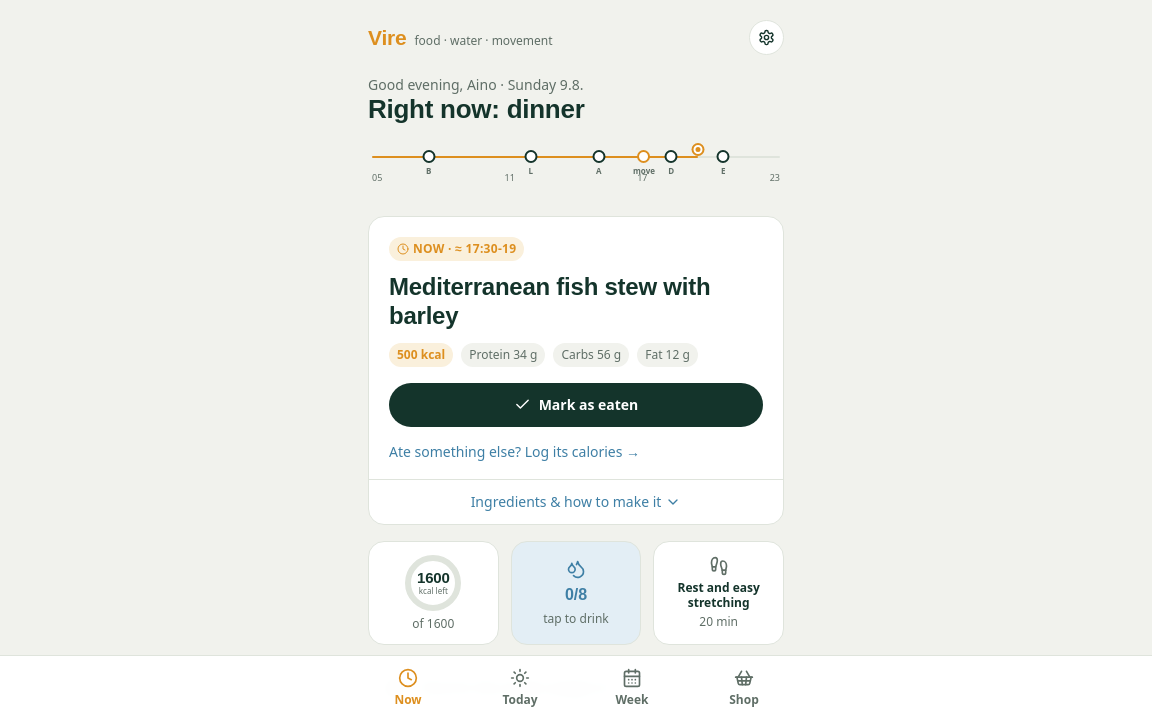
session gate › returns to the sign-in screen after signing out
The image size is (1152, 720).
Check: the button "Now" is shown, box [352, 656, 464, 719]
Note: Sign-out lives in Settings now that the gear opens it.
What coordinates should you click on to do the following:
click the button named "Settings"
I would click on:
 (766, 38)
Its box is [749, 20, 784, 55].
(page scrolled)
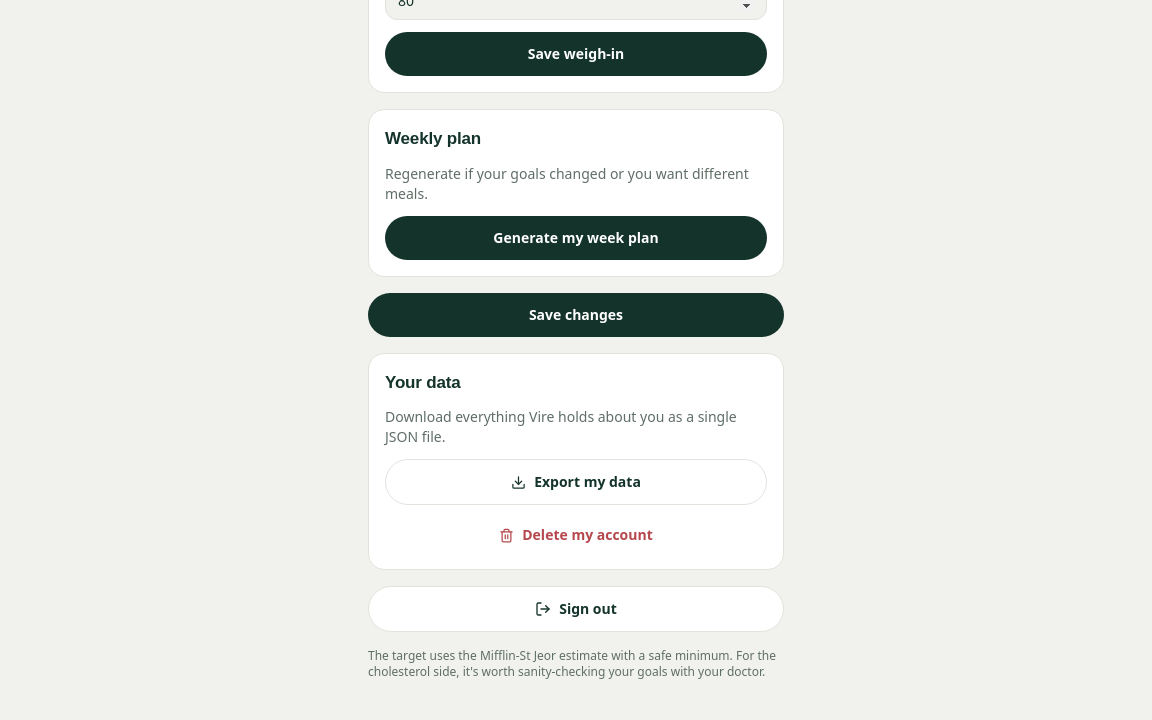
What coordinates should you click on to do the following:
click the button "Sign out"
I would click on:
 (576, 609)
Its box is [368, 586, 784, 632].
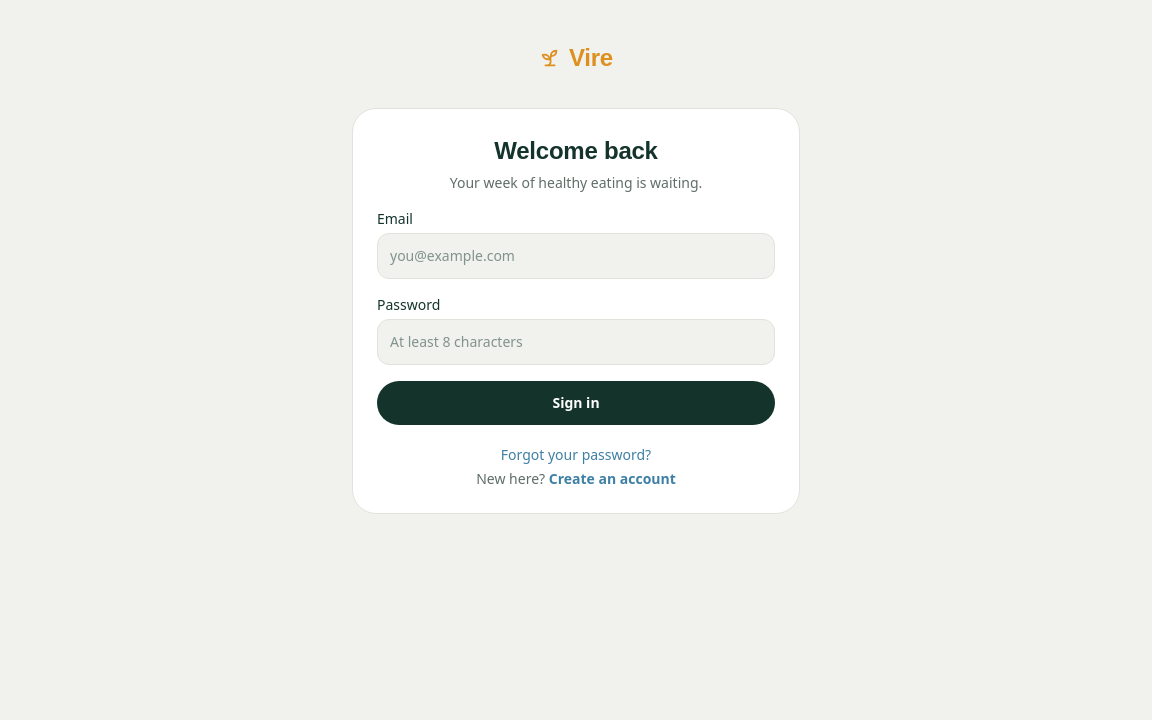
Check: the heading "Welcome back" is shown, box [494, 137, 658, 164]
